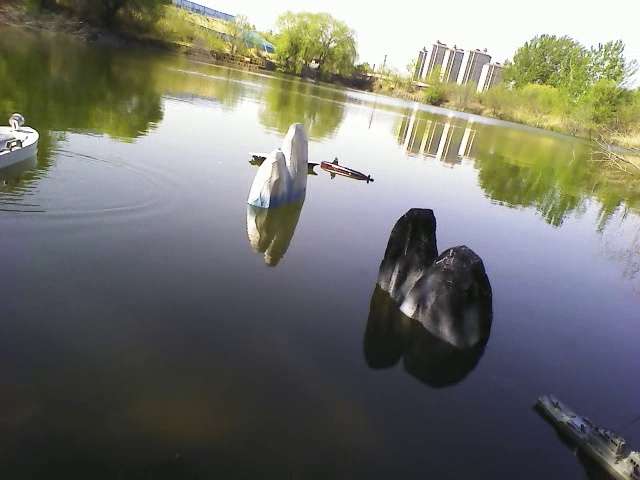boat: (3, 108, 42, 168)
iceberg: (247, 123, 313, 213)
rock: (377, 200, 500, 349)
submarine: (318, 154, 375, 187)
warship: (539, 389, 636, 471)
